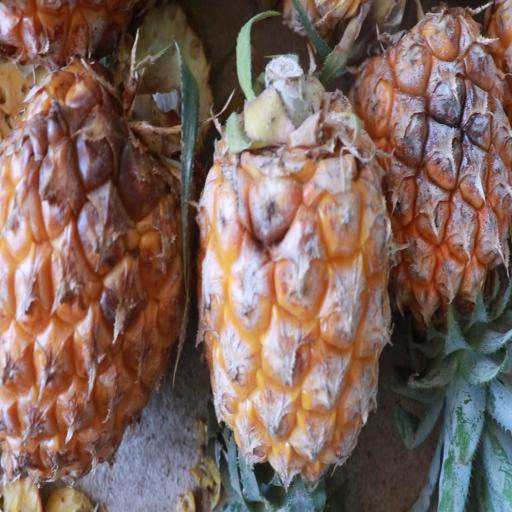Pineapple - v8 v1: (192, 78, 394, 512), (0, 56, 189, 512), (346, 0, 509, 385)
